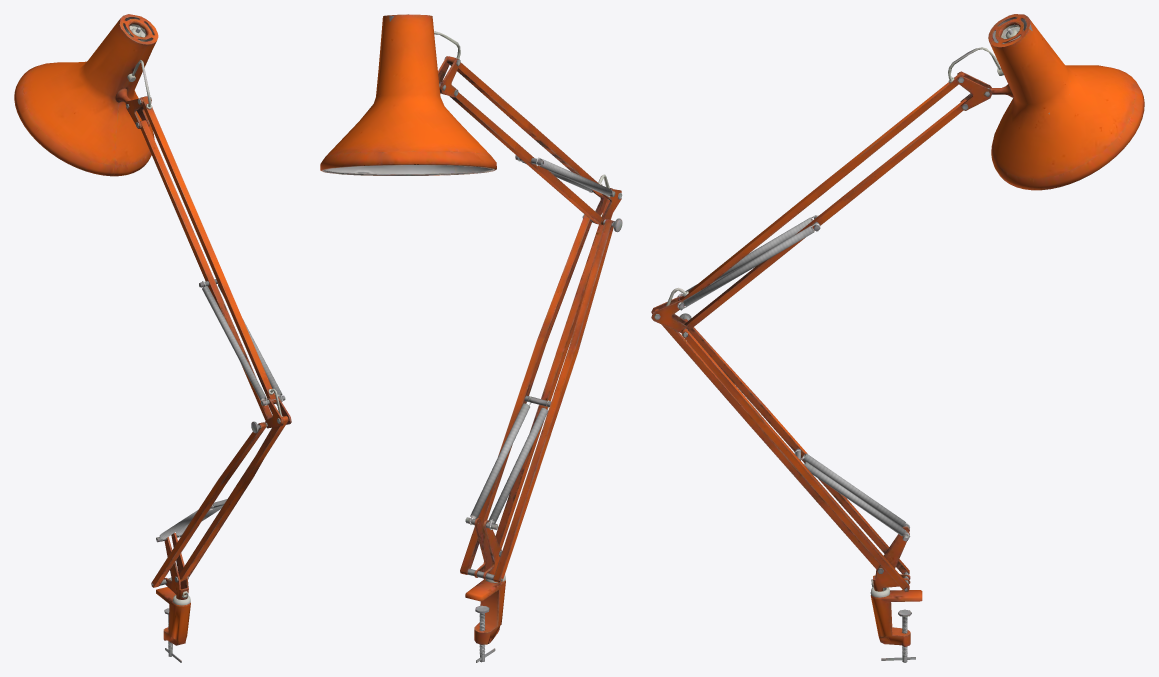
The model's file is desk_lamp_arm_01.glb.
The picture shows the model from 3 angles, left to right: view 1: azimuth 30°, elevation 25°; view 2: azimuth 150°, elevation 25°; view 3: azimuth 270°, elevation 25°; orthographic projection. The views are drawn at different scales.
Parts seen in each view (by area): view 1: desk_lamp_arm_01; view 2: desk_lamp_arm_01; view 3: desk_lamp_arm_01.
Part boxes in pixels (left/top/right/bottom): desk_lamp_arm_01: left=14, top=14, right=291, bottom=662; desk_lamp_arm_01: left=320, top=14, right=622, bottom=662; desk_lamp_arm_01: left=651, top=14, right=1144, bottom=662.
Bounding box in the file's own units: 0.2017 × 0.8926 × 0.6139.
Materials: 2 (2 with a texture image).
